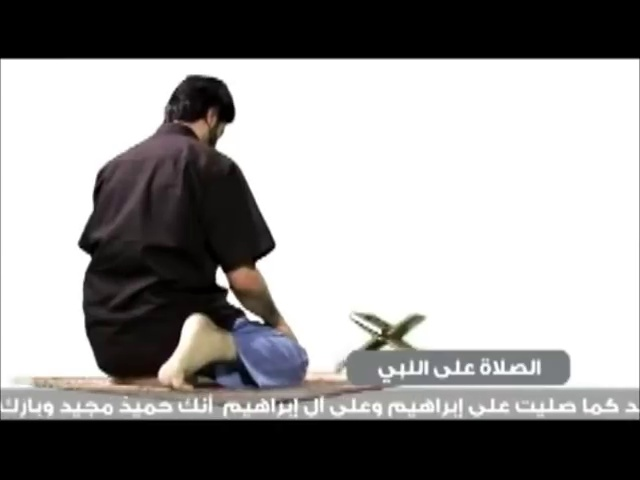sitting: (74, 69, 316, 392)
